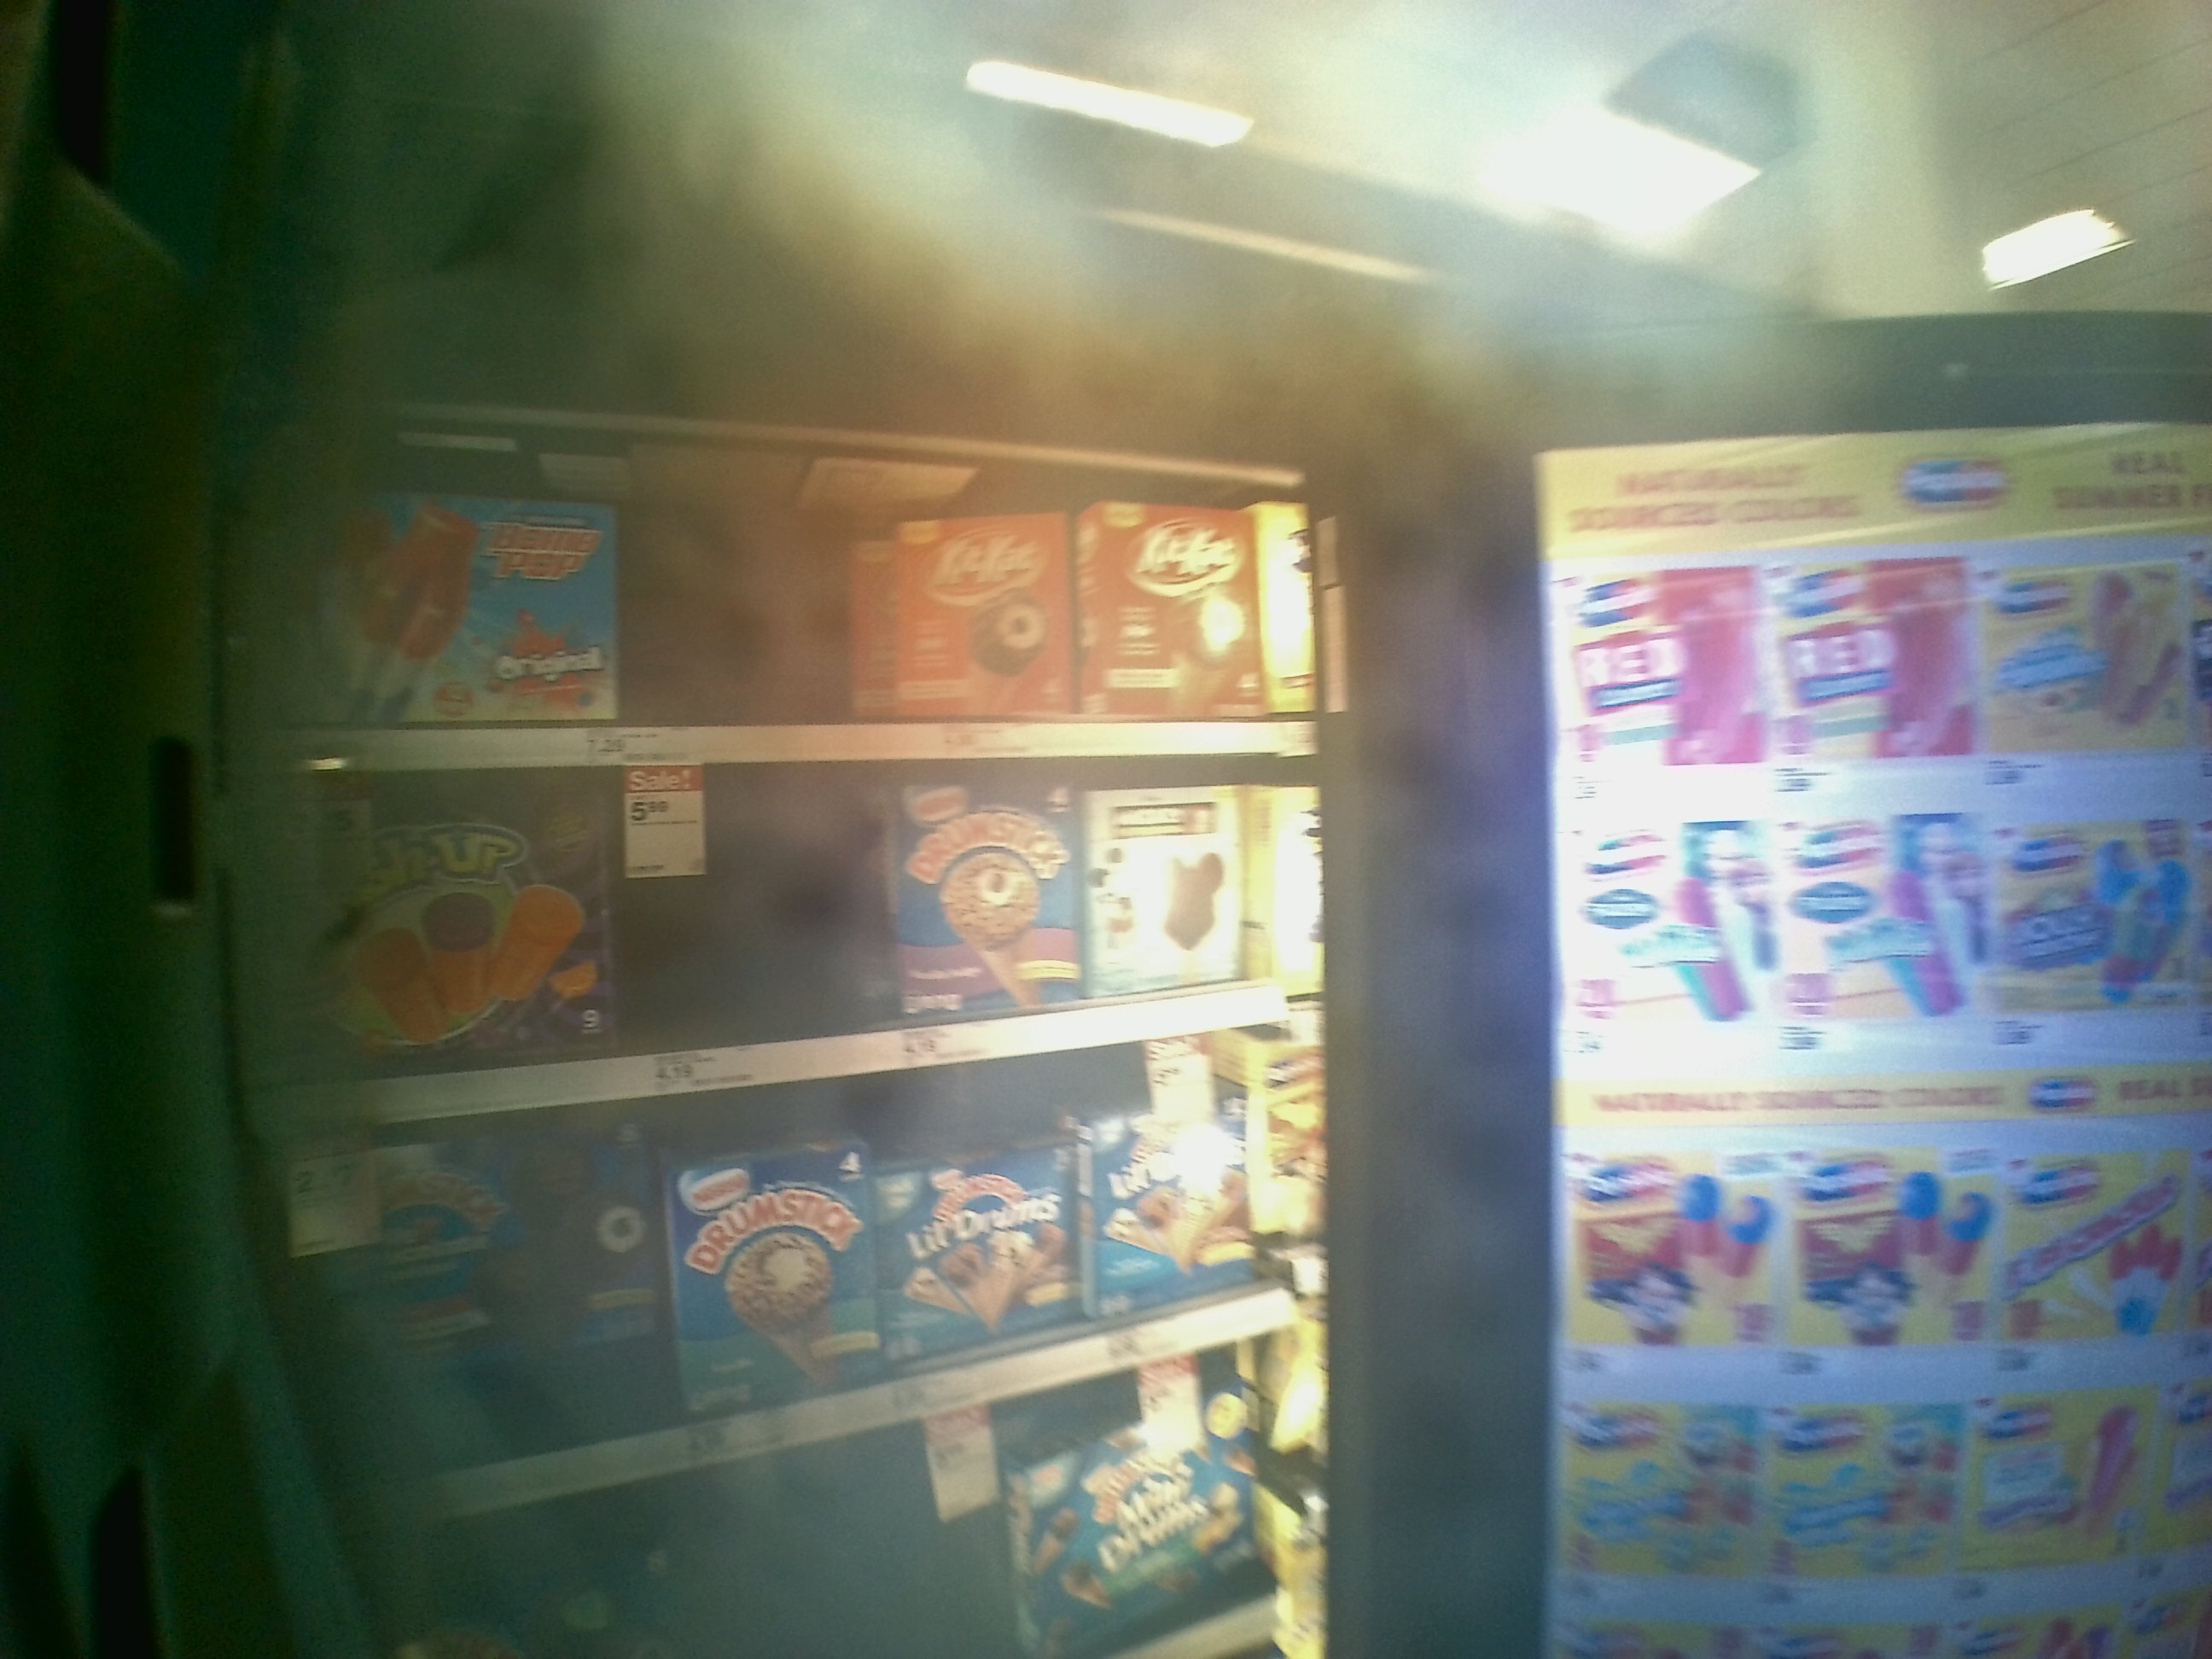shelf: (294, 742, 1332, 1114), (301, 416, 1350, 767)
